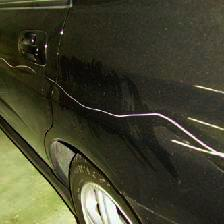door_scratch: (1, 55, 217, 155)
